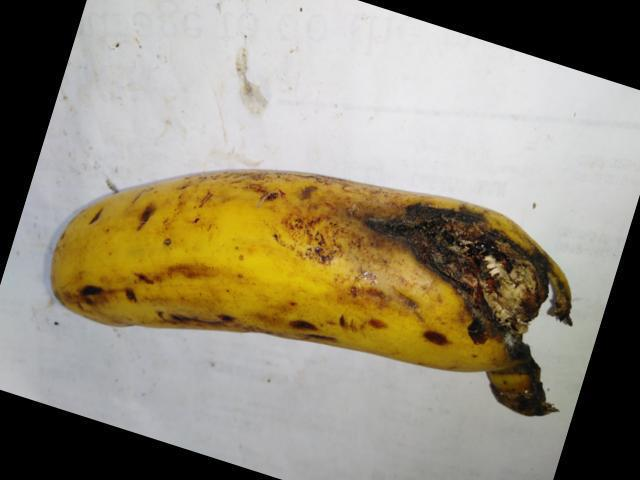ripe: (43, 161, 389, 353)
rotten: (342, 140, 569, 382)
